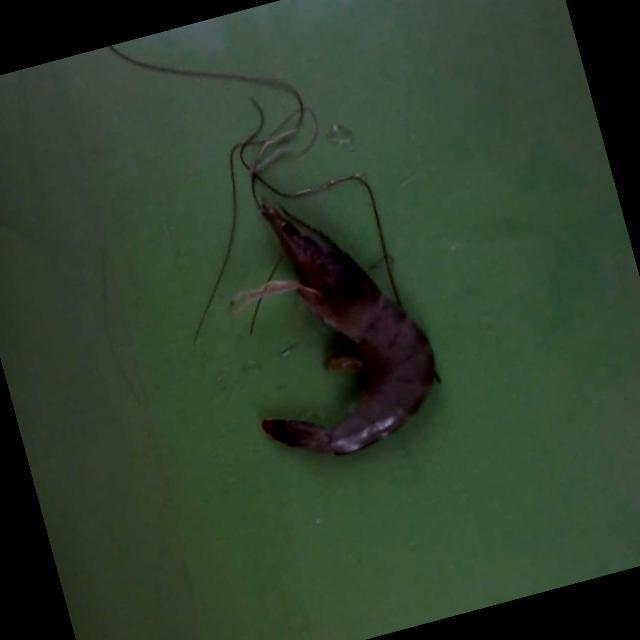shrimp: (262, 205, 435, 455)
